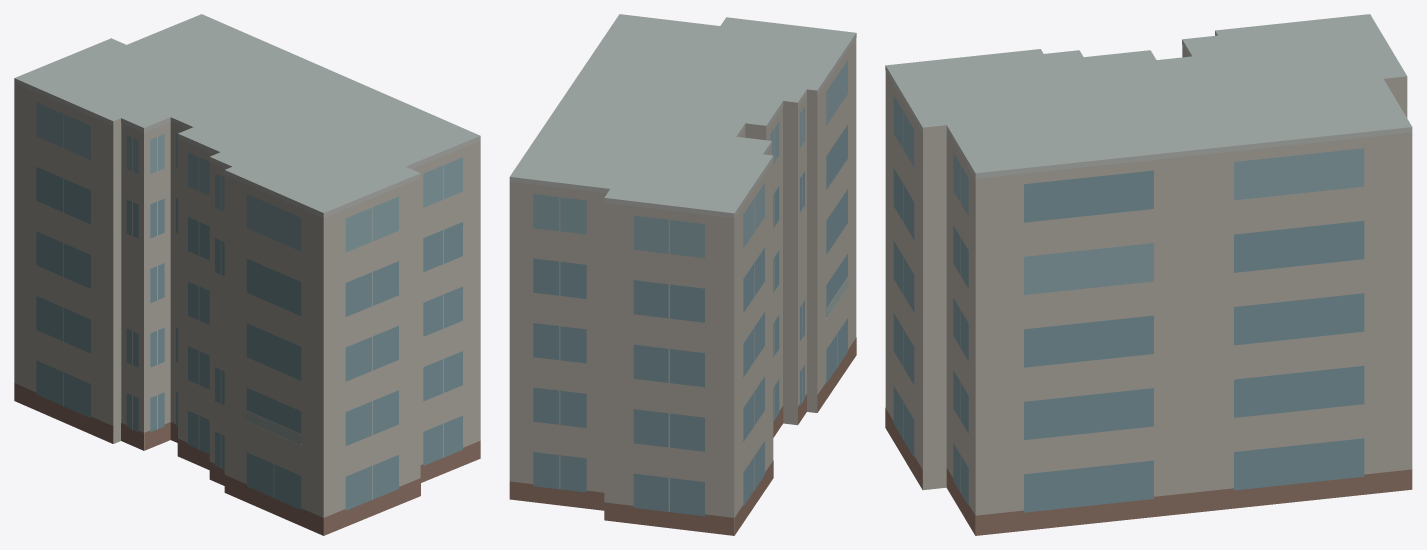
File: survey-upis-32587931.glb
3 views of the same model, side by side, from view 1: azimuth 30°, elevation 25°; view 2: azimuth 150°, elevation 25°; view 3: azimuth 270°, elevation 25° (orthographic). The views are drawn at different scales.
Visible parts, largest first — view 1: survey-upis-32587931.tmp; view 2: survey-upis-32587931.tmp; view 3: survey-upis-32587931.tmp.
Part boxes in pixels (left/top/right/bottom): survey-upis-32587931.tmp: left=14, top=14, right=480, bottom=535; survey-upis-32587931.tmp: left=509, top=14, right=856, bottom=535; survey-upis-32587931.tmp: left=885, top=14, right=1412, bottom=535.
Bounding box in the file's own units: 15.37 × 16.3 × 21.48.
